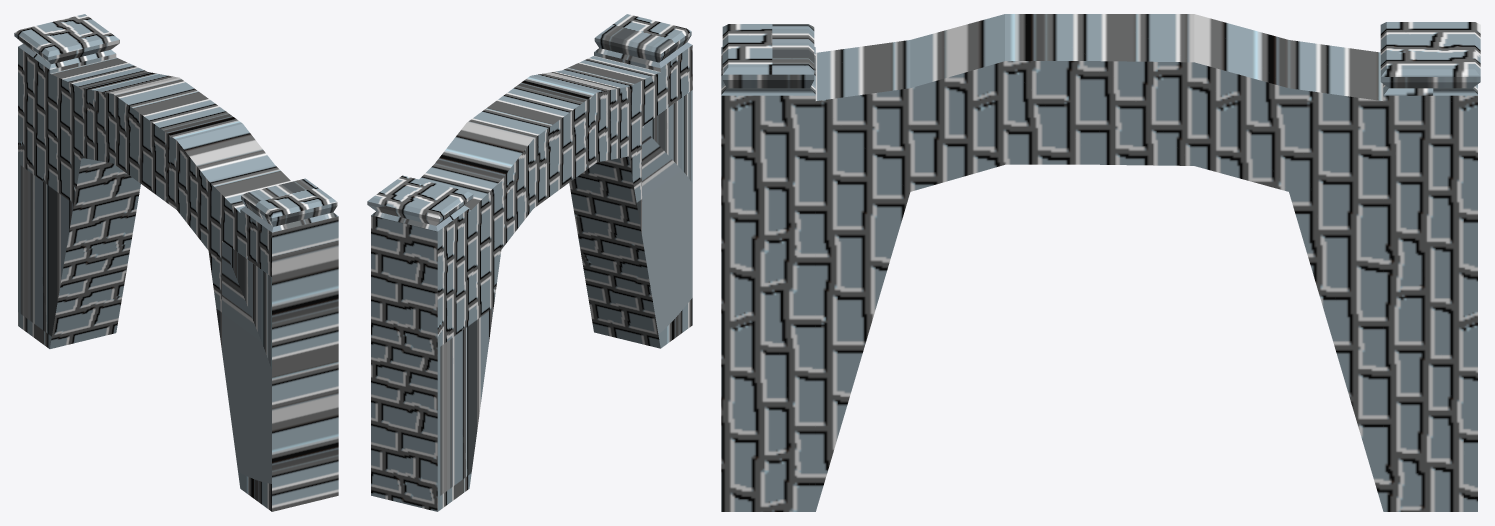
File: arch.fbx
3 renders of one model, left to right at view 1: azimuth 30°, elevation 25°; view 2: azimuth 150°, elevation 25°; view 3: azimuth 270°, elevation 25°, orthographic. The views are drawn at different scales.
Visible parts, largest first — view 1: Cube; view 2: Cube; view 3: Cube.
Part boxes in pixels (<box>): Cube: <box>14,14,338,511</box>; Cube: <box>367,14,692,511</box>; Cube: <box>721,14,1480,511</box>.
Size of the model in its own units: 216 by 869 by 1328.
